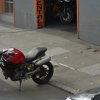Motorcycle: (4, 39, 57, 93)
